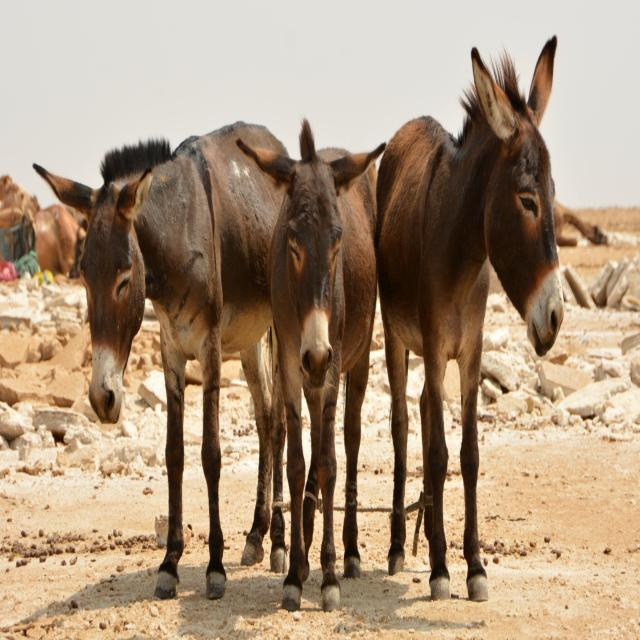Donkey: (32, 122, 285, 615), (380, 33, 565, 600), (236, 135, 383, 607)
